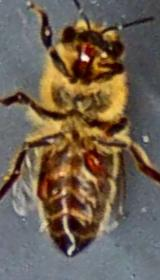varroa_mite: (26, 169, 57, 202), (78, 144, 108, 176)
